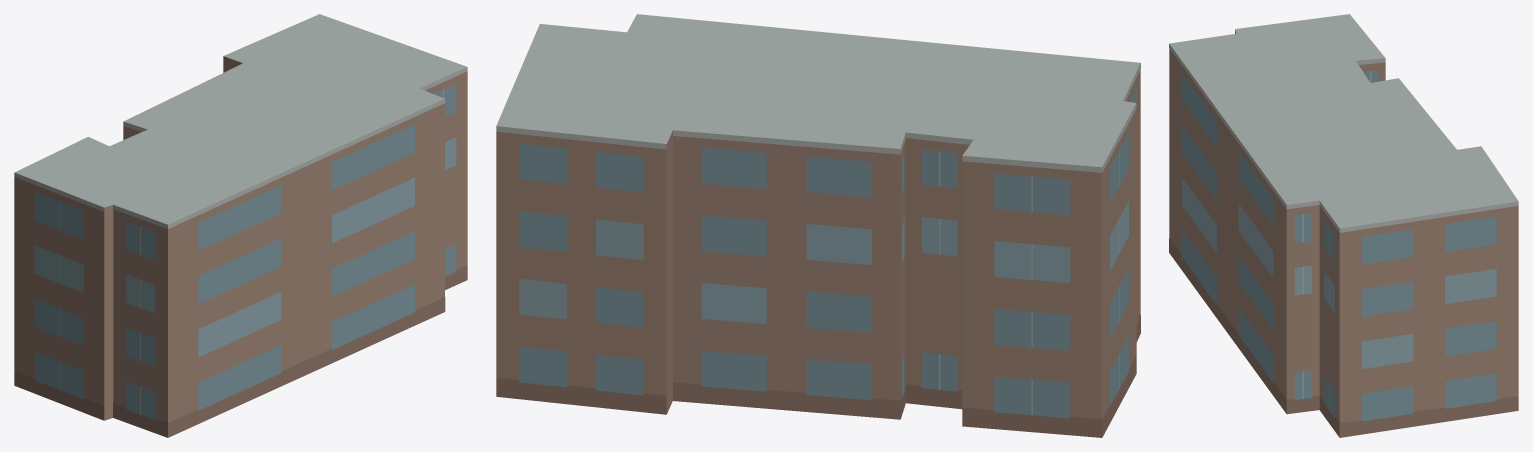
The model's file is survey-upis-33017503.glb.
The picture shows the model from 3 angles, left to right: view 1: azimuth 30°, elevation 25°; view 2: azimuth 150°, elevation 25°; view 3: azimuth 270°, elevation 25°; orthographic projection. The views are drawn at different scales.
Parts seen in each view (by area): view 1: survey-upis-33017503.tmp; view 2: survey-upis-33017503.tmp; view 3: survey-upis-33017503.tmp.
Boxes of the visible parts, left/top/right/bottom form: survey-upis-33017503.tmp: left=14, top=14, right=467, bottom=437; survey-upis-33017503.tmp: left=496, top=14, right=1140, bottom=437; survey-upis-33017503.tmp: left=1169, top=14, right=1518, bottom=437.
Size of the model in its own units: 25.96 by 11.8 by 17.87.
